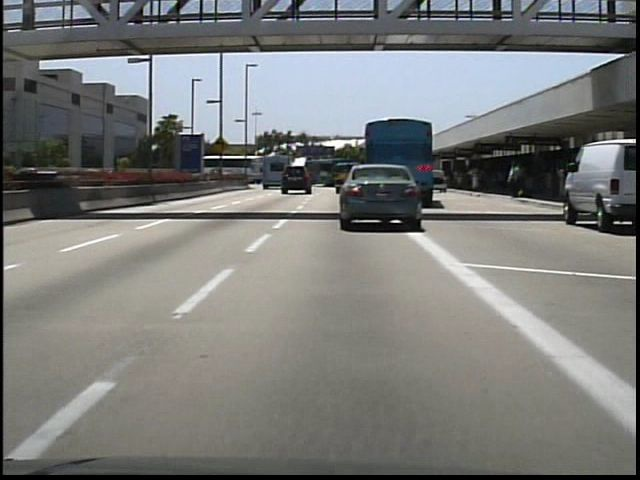person: (508, 159, 525, 201)
